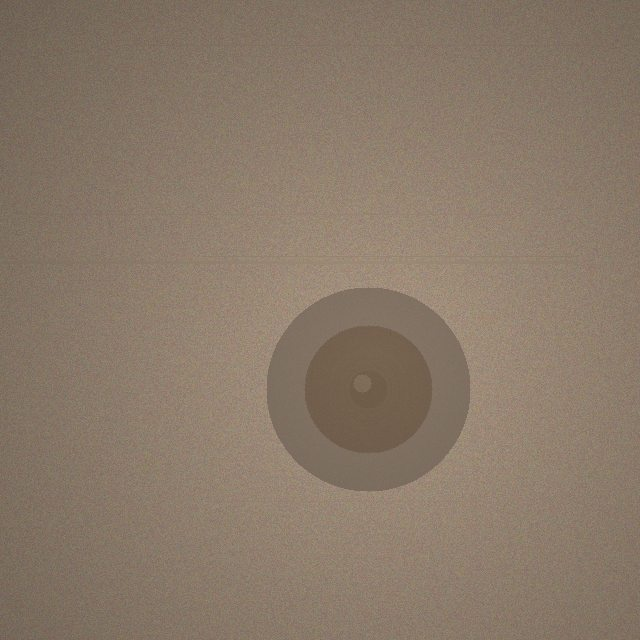good: (266, 287, 470, 491)
